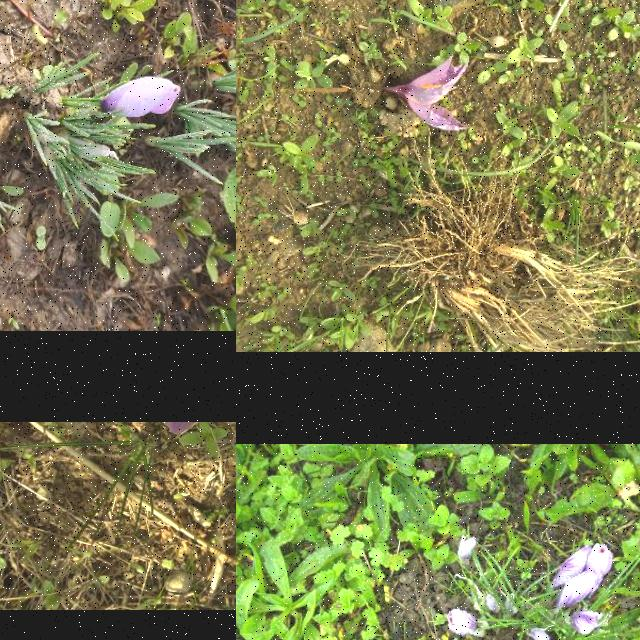flower: (386, 56, 470, 130), (100, 76, 182, 118), (447, 608, 479, 636), (570, 610, 598, 636), (458, 536, 478, 562), (529, 627, 550, 640)
overlap: (550, 544, 614, 612)
